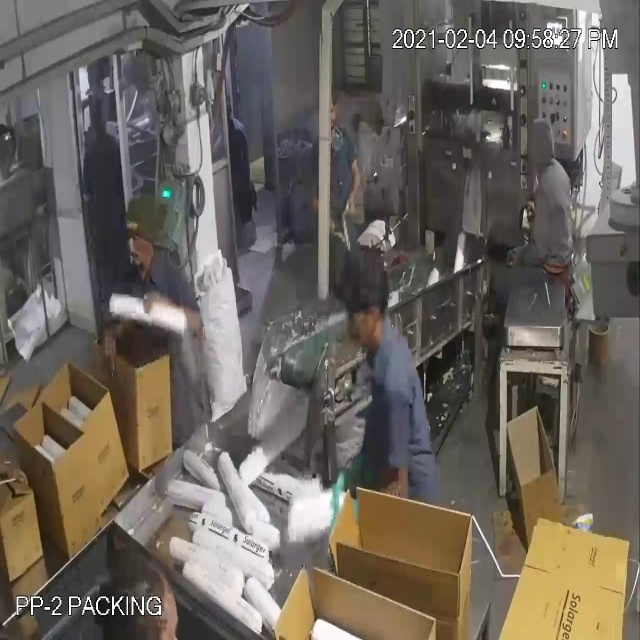Sin_guantes: (133, 297, 206, 353), (83, 293, 139, 357), (336, 142, 371, 229)
